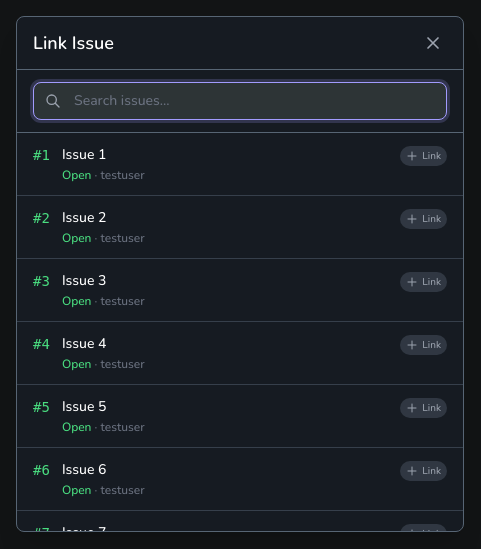
Test: EntityPicker › Large Lists › filters large lists correctly
In the field with placeholder "Search issues...": (240, 101) left=33, top=82, right=447, bottom=120, type "Issue 50"
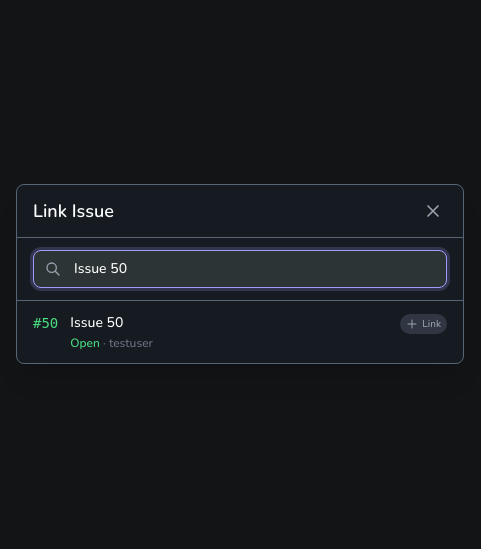
expect the text "Issue 50" is shown: met, box left=70, top=313, right=123, bottom=332
